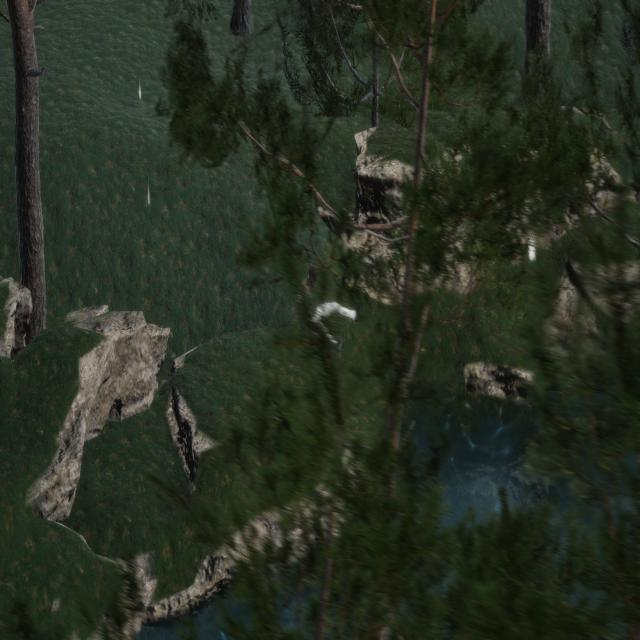Human: (292, 261, 364, 376)
